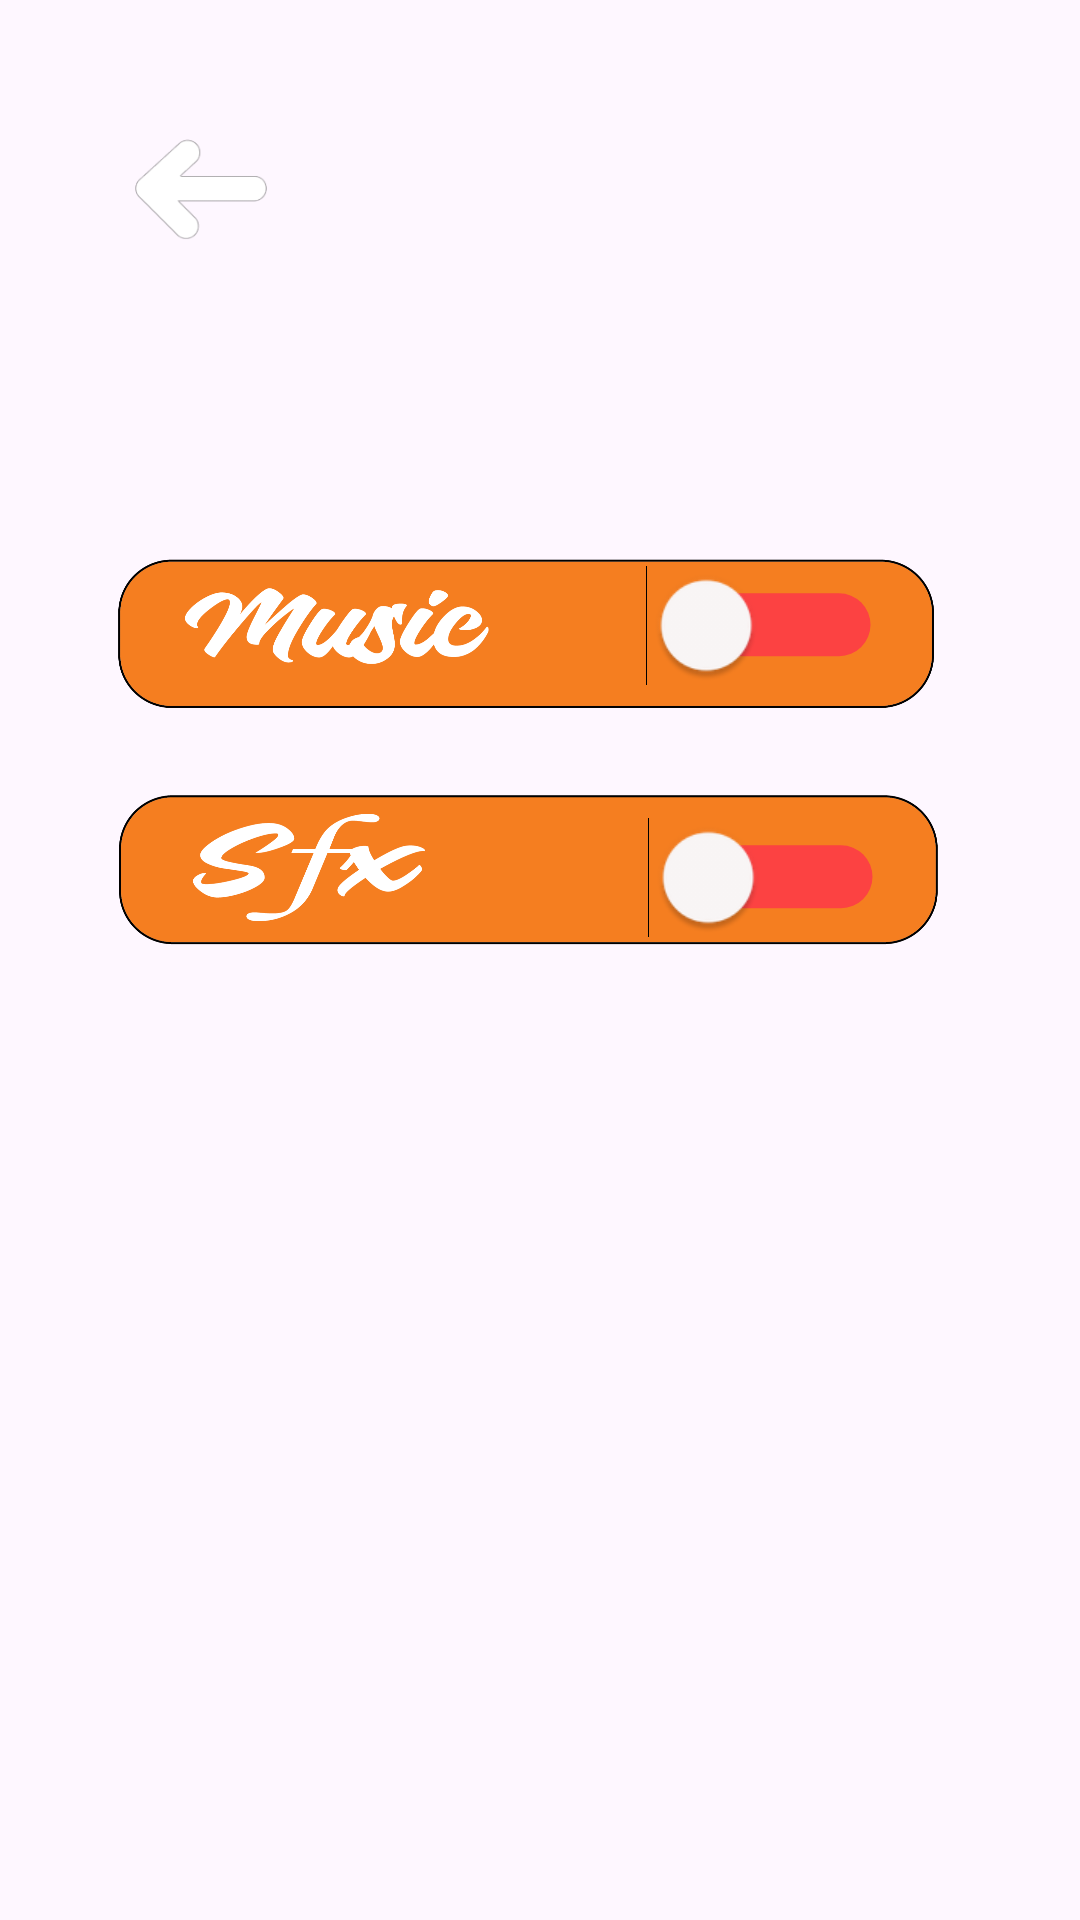

Where icons sit on this 1080 × 1920 app screen, as (x1, y1, x2, y2):
backbutton: (135, 140, 267, 239)
